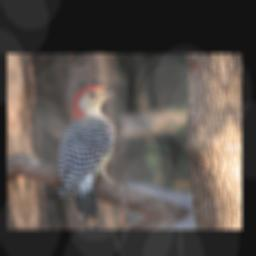Woodpecker: (43, 80, 148, 221)
